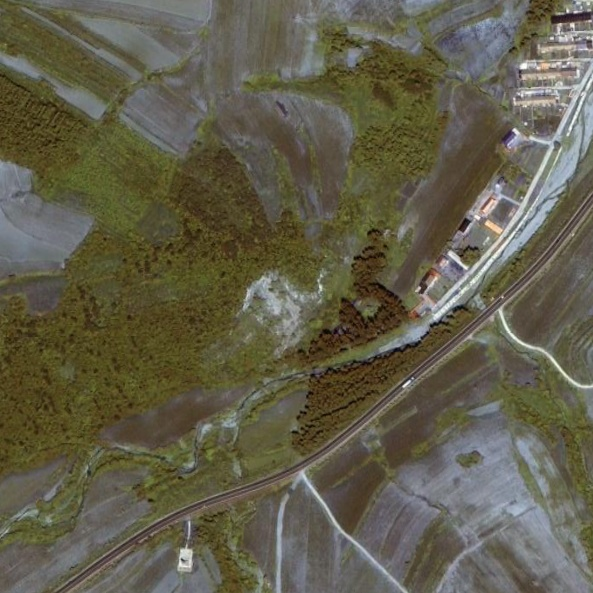slope: (210, 265, 331, 369)
